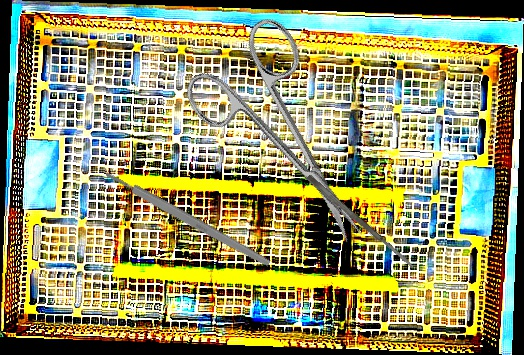Iris Scissors: (171, 10, 404, 275)
Scalpel Handle: (103, 168, 273, 269)
Spatula Surgical: (305, 173, 416, 271)
